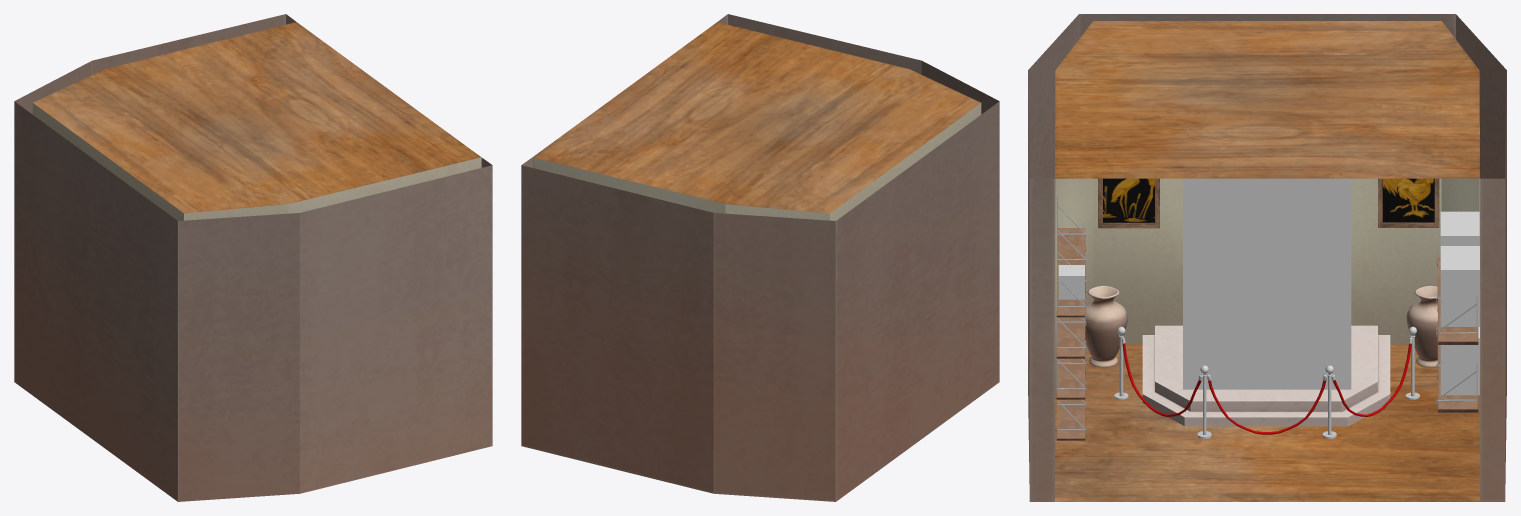
The model's file is MuseumBuilding.glb.
3 views of the same model, side by side, from view 1: azimuth 30°, elevation 25°; view 2: azimuth 150°, elevation 25°; view 3: azimuth 270°, elevation 25° (orthographic). The views are drawn at different scales.
Parts seen in each view (by area): view 1: Museum; view 2: Museum; view 3: Museum, placeholder_current_skeleton, Bear, Deer, Mammoth, seashell.
Part boxes in pixels (<box>): Museum: <box>14,14,492,501</box>; Museum: <box>521,14,999,501</box>; Museum: <box>1028,14,1506,501</box>; placeholder_current_skeleton: <box>1183,178,1351,389</box>; Bear: <box>1440,246,1479,326</box>; Deer: <box>1440,327,1479,395</box>; Mammoth: <box>1440,211,1479,245</box>; seashell: <box>1058,265,1084,299</box>.
Size of the model in its own units: 3.89 by 3.58 by 4.78.
Materials: 1 (1 with a texture image).
